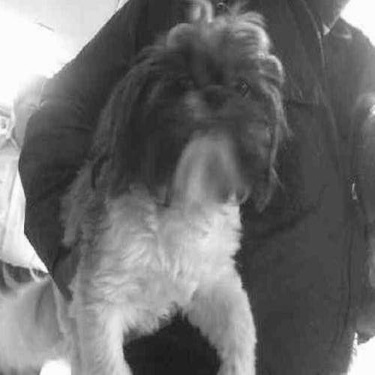dog: (1, 5, 294, 371)
